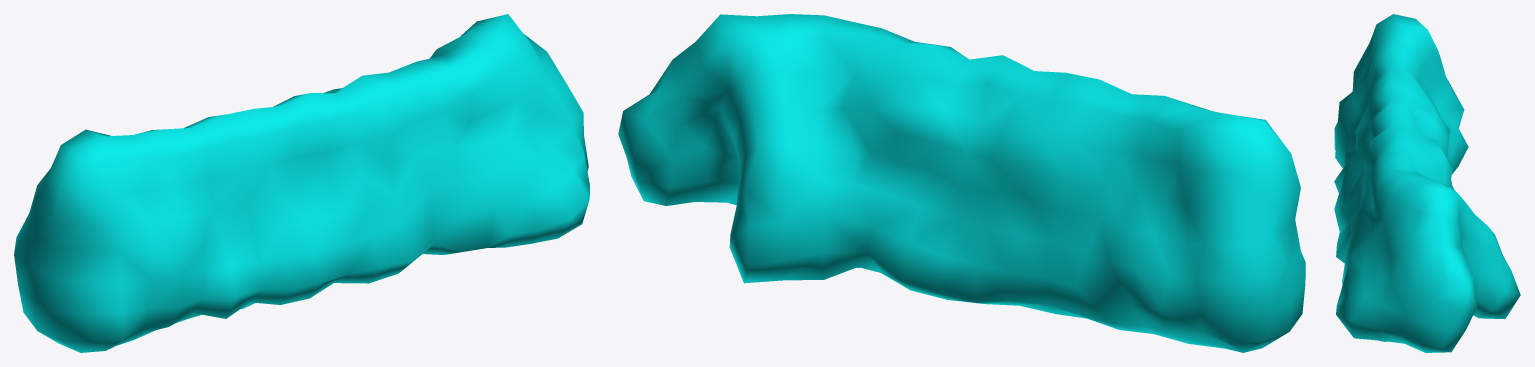
File: BWallBWall_B_LP.fbx
3 renders of one model, left to right at view 1: azimuth 30°, elevation 25°; view 2: azimuth 150°, elevation 25°; view 3: azimuth 270°, elevation 25°, orthographic. The views are drawn at different scales.
Parts seen in each view (by area): view 1: BWall_B_LP; view 2: BWall_B_LP; view 3: BWall_B_LP.
Part boxes in pixels (x1,y1,x2,y2): BWall_B_LP: (14, 14, 589, 352); BWall_B_LP: (618, 14, 1305, 352); BWall_B_LP: (1334, 14, 1520, 352).
Size of the model in its own units: 23.87 by 8.24 by 8.49.
